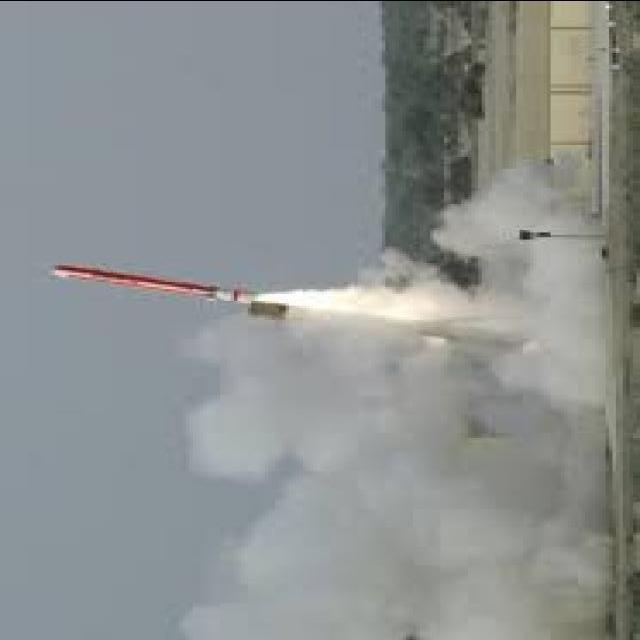missile: (50, 258, 258, 305)
